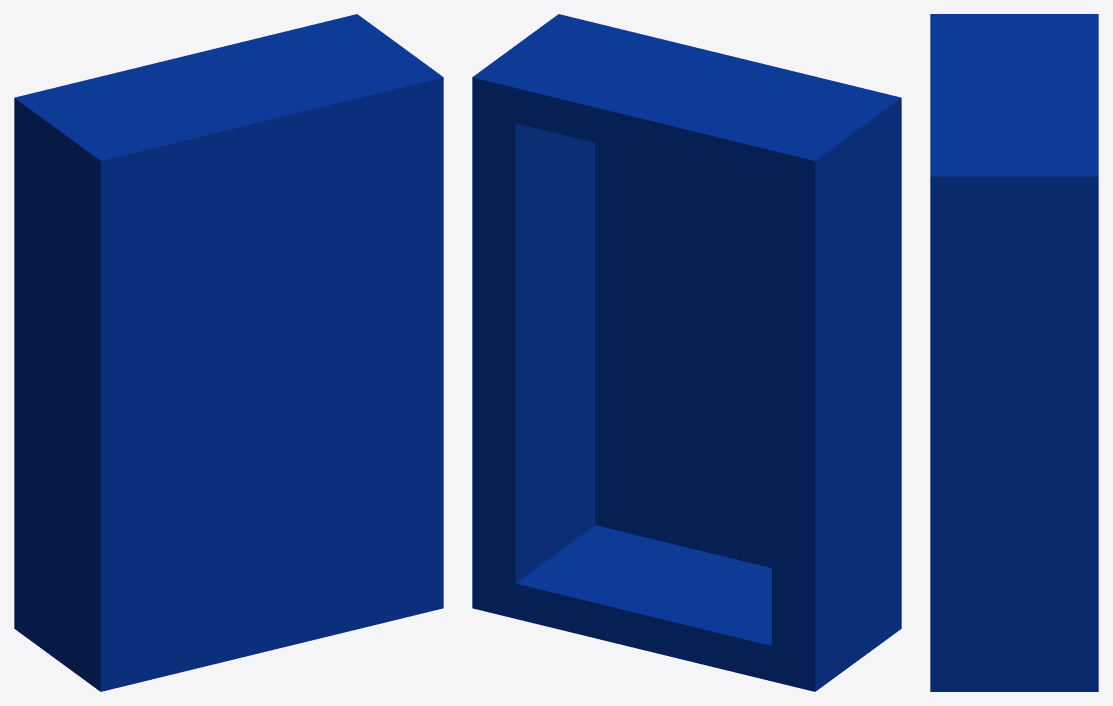
The model's file is Blue Box.fbx.
The picture shows the model from 3 angles, left to right: view 1: azimuth 30°, elevation 25°; view 2: azimuth 150°, elevation 25°; view 3: azimuth 270°, elevation 25°; orthographic projection. The views are drawn at different scales.
Parts seen in each view (by area): view 1: pCube2; view 2: pCube2; view 3: pCube2.
Part boxes in pixels (left/top/right/bottom): pCube2: left=14, top=14, right=443, bottom=691; pCube2: left=472, top=14, right=901, bottom=691; pCube2: left=930, top=14, right=1098, bottom=691.
Bounding box in the file's own units: 111 × 164 × 48.33.
